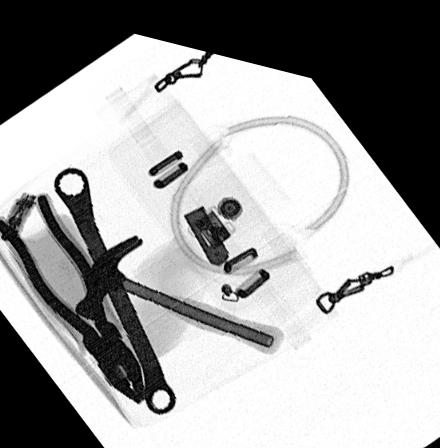Hammer: (75, 226, 287, 346)
Pliers: (0, 188, 148, 399)
Wrench: (51, 159, 182, 409)
